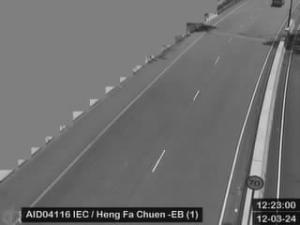truck: (272, 0, 284, 6)
